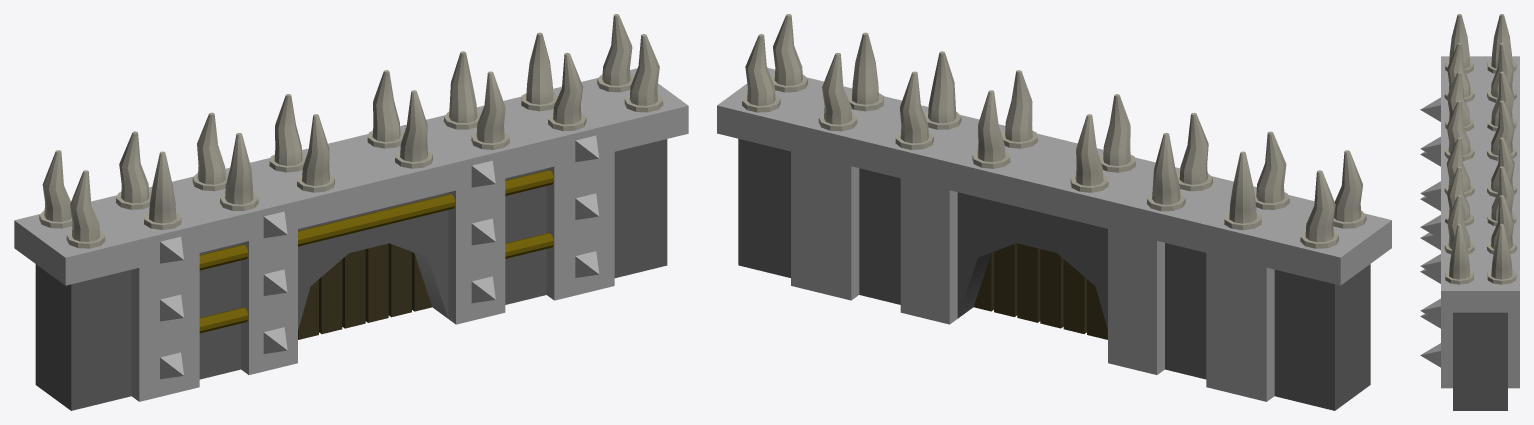
Rendered from Wall.fbx.
The picture shows the model from 3 angles, left to right: view 1: azimuth 30°, elevation 25°; view 2: azimuth 150°, elevation 25°; view 3: azimuth 270°, elevation 25°; orthographic projection. The views are drawn at different scales.
Visible parts, largest first — view 1: Gate, Gate_Upper_Spikes, Gate_Wood, Wall_Spikes; view 2: Gate, Gate_Upper_Spikes, Gate_Wood; view 3: Gate, Gate_Upper_Spikes, Wall_Spikes.
Boxes of the visible parts, x1,y1,x2,y2 form: Gate: [14, 68, 688, 410]; Gate_Upper_Spikes: [39, 14, 663, 248]; Gate_Wood: [298, 243, 431, 339]; Wall_Spikes: [160, 135, 599, 379]; Gate: [717, 68, 1391, 410]; Gate_Upper_Spikes: [742, 14, 1366, 248]; Gate_Wood: [973, 243, 1107, 339]; Gate: [1441, 56, 1519, 410]; Gate_Upper_Spikes: [1444, 14, 1516, 284]; Wall_Spikes: [1420, 97, 1440, 367].
Size of the model in its own units: 254 by 90.31 by 45.73.
